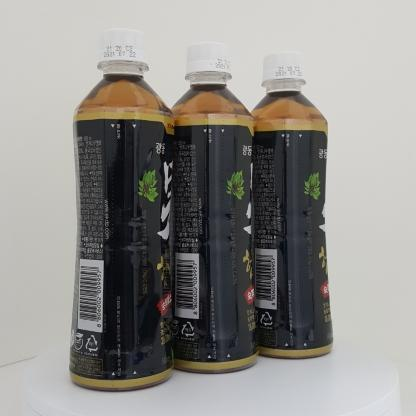---------500ML: (68, 28, 174, 391), (164, 42, 258, 374), (244, 51, 335, 359)
